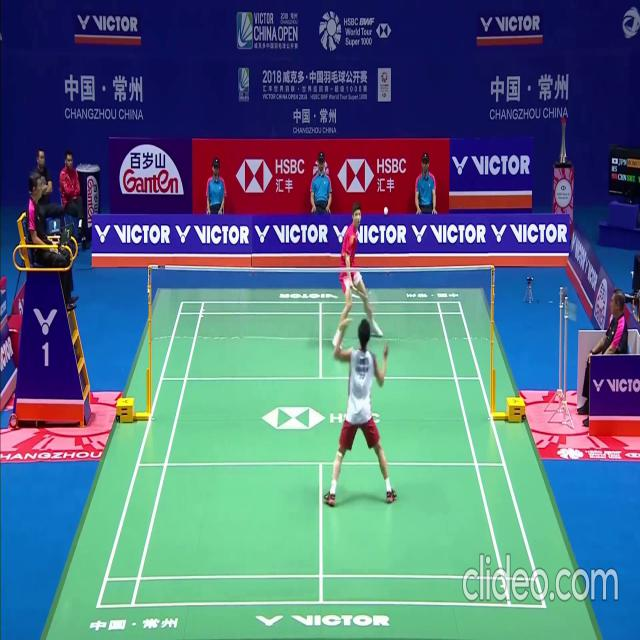Shuttlecock: (383, 208, 388, 216)
